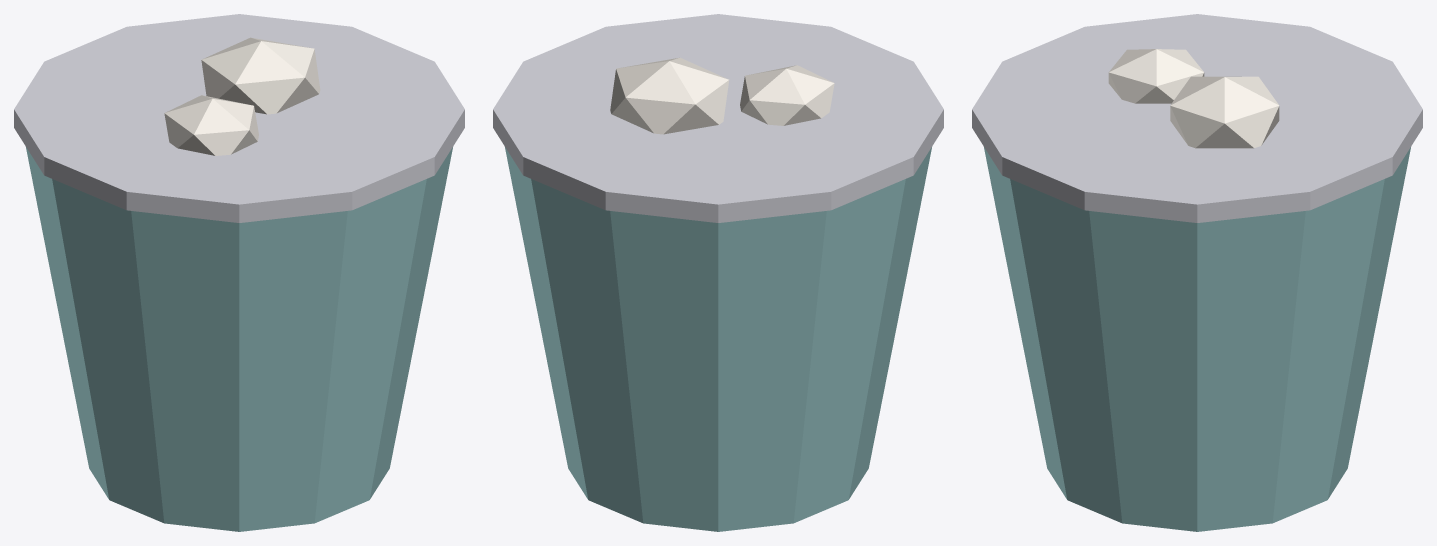
Rendered from deco_cestino_01.glb.
3 views of the same model, side by side, from view 1: azimuth 30°, elevation 25°; view 2: azimuth 150°, elevation 25°; view 3: azimuth 270°, elevation 25° (orthographic).
Parts seen in each view (by area): view 1: deco_cestino_01; view 2: deco_cestino_01; view 3: deco_cestino_01.
Part boxes in pixels (<box>): deco_cestino_01: <box>14,14,464,531</box>; deco_cestino_01: <box>493,14,943,531</box>; deco_cestino_01: <box>972,14,1422,531</box>.
Bounding box in the file's own units: 0.33 × 0.33 × 0.33.
